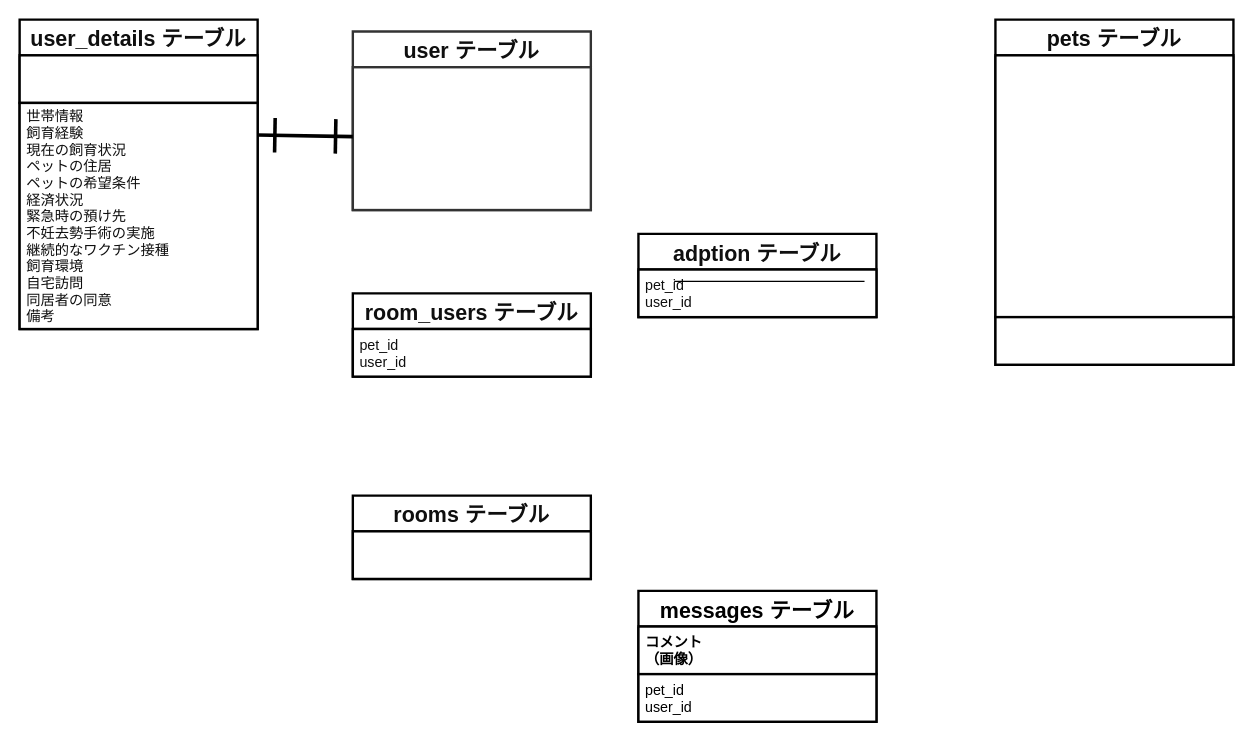
Some shapes in this 1253 by 741 pixel diagram are drawn without their labels. Each missing label, with the centre of its shape:
"user_id 生年月日" goes at point 138,79.
"タイトル 名前 ペットの種類 犬種・猫種 性別 年齢 大きさ 所在地 ワクチン接種有無 避妊去勢有無 募集地域 譲渡費用 譲渡理由 応募条件 (画像)" goes at point 1114,186.
"ニックネーム メールアドレス パスワード 名前 名前（ふりがな） 居住地 電話番号" goes at point 471,138.
"ルーム名" goes at point 471,555.
"備考 user_id" goes at point 1114,340.
